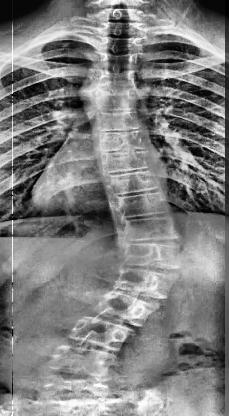Vertebrae: (42, 346, 119, 378), (95, 290, 159, 328), (63, 315, 130, 349), (112, 267, 180, 299), (114, 216, 188, 245), (109, 192, 177, 218), (118, 244, 186, 268), (98, 148, 154, 176), (103, 170, 166, 194), (96, 130, 152, 154), (91, 111, 143, 135), (89, 87, 143, 110), (86, 68, 140, 90), (94, 32, 144, 54), (94, 48, 140, 66)
